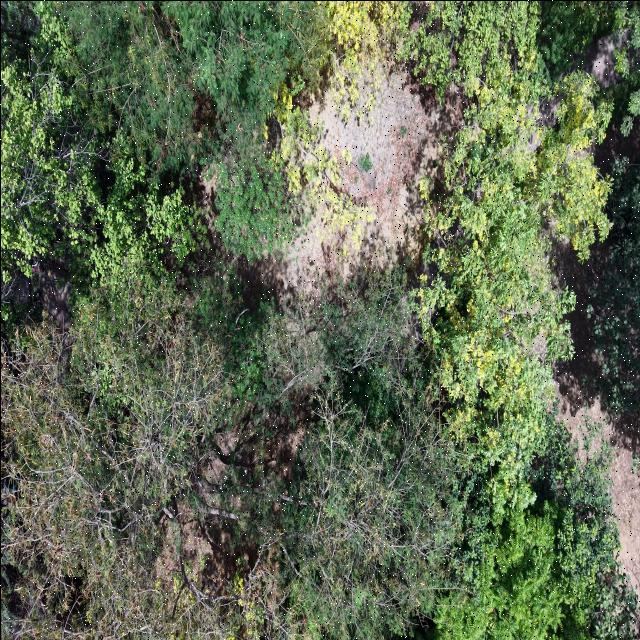DRY_AREA: (193, 72, 459, 309), (197, 73, 460, 310), (196, 74, 459, 310), (208, 73, 461, 308), (212, 73, 461, 307), (229, 73, 460, 301), (230, 73, 461, 301), (236, 74, 459, 297), (270, 74, 459, 291), (281, 74, 459, 291), (285, 73, 460, 284), (288, 74, 438, 281), (552, 242, 639, 598), (552, 241, 639, 596), (553, 244, 639, 595), (556, 383, 639, 598), (1, 262, 71, 331), (610, 443, 639, 596), (572, 29, 630, 88), (584, 29, 630, 87), (38, 269, 70, 330)
VEGETATION_TREE: (1, 1, 639, 639), (1, 273, 633, 639), (2, 1, 332, 282), (417, 73, 610, 509), (1, 271, 224, 638), (289, 274, 464, 639), (1, 8, 198, 282), (58, 1, 330, 184), (59, 1, 326, 171), (437, 413, 636, 639), (398, 1, 540, 102), (587, 142, 639, 414), (587, 158, 639, 412), (212, 158, 294, 259), (537, 1, 624, 80), (614, 4, 639, 135)
